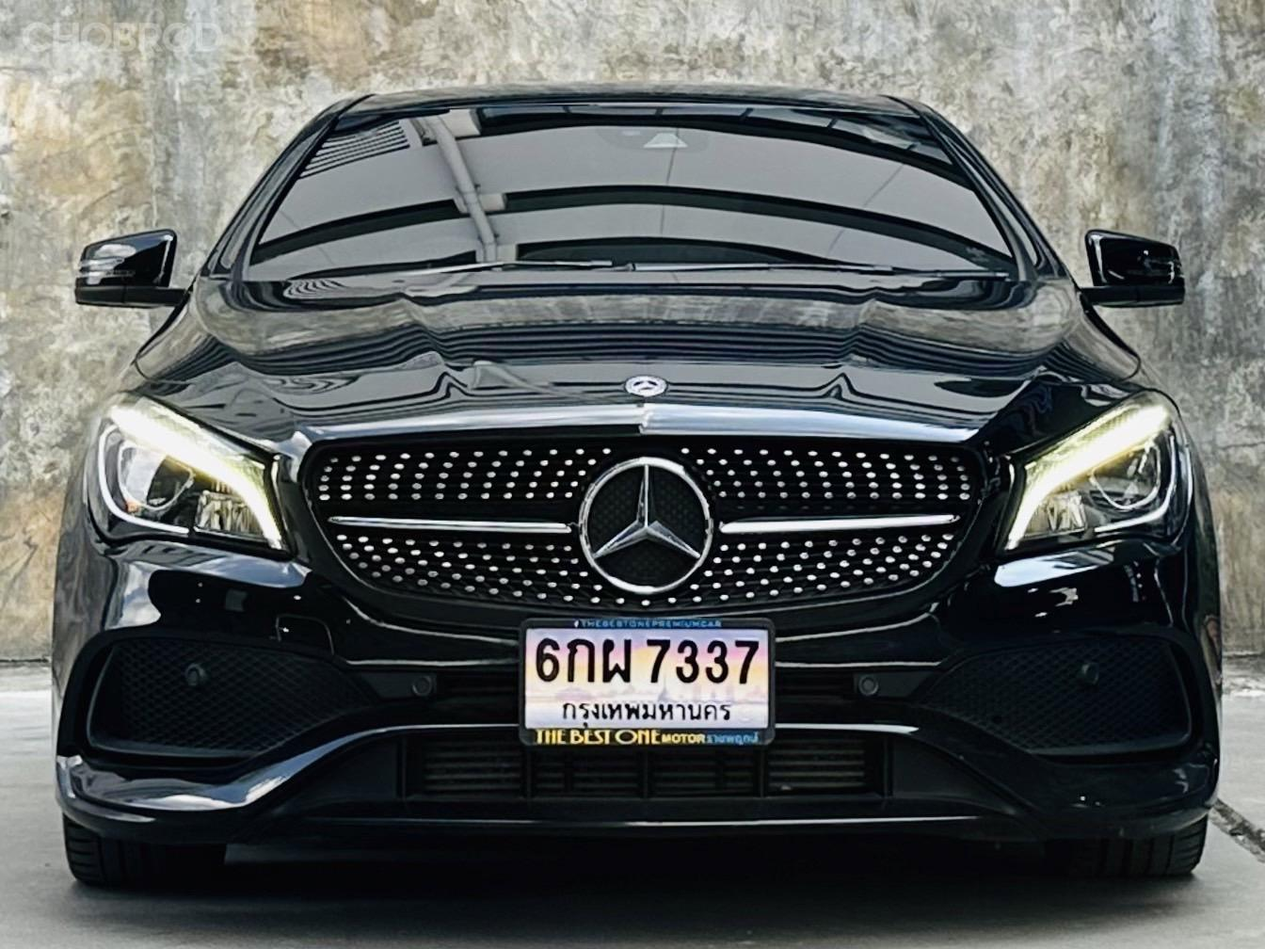license-plate: (522, 621, 775, 749)
